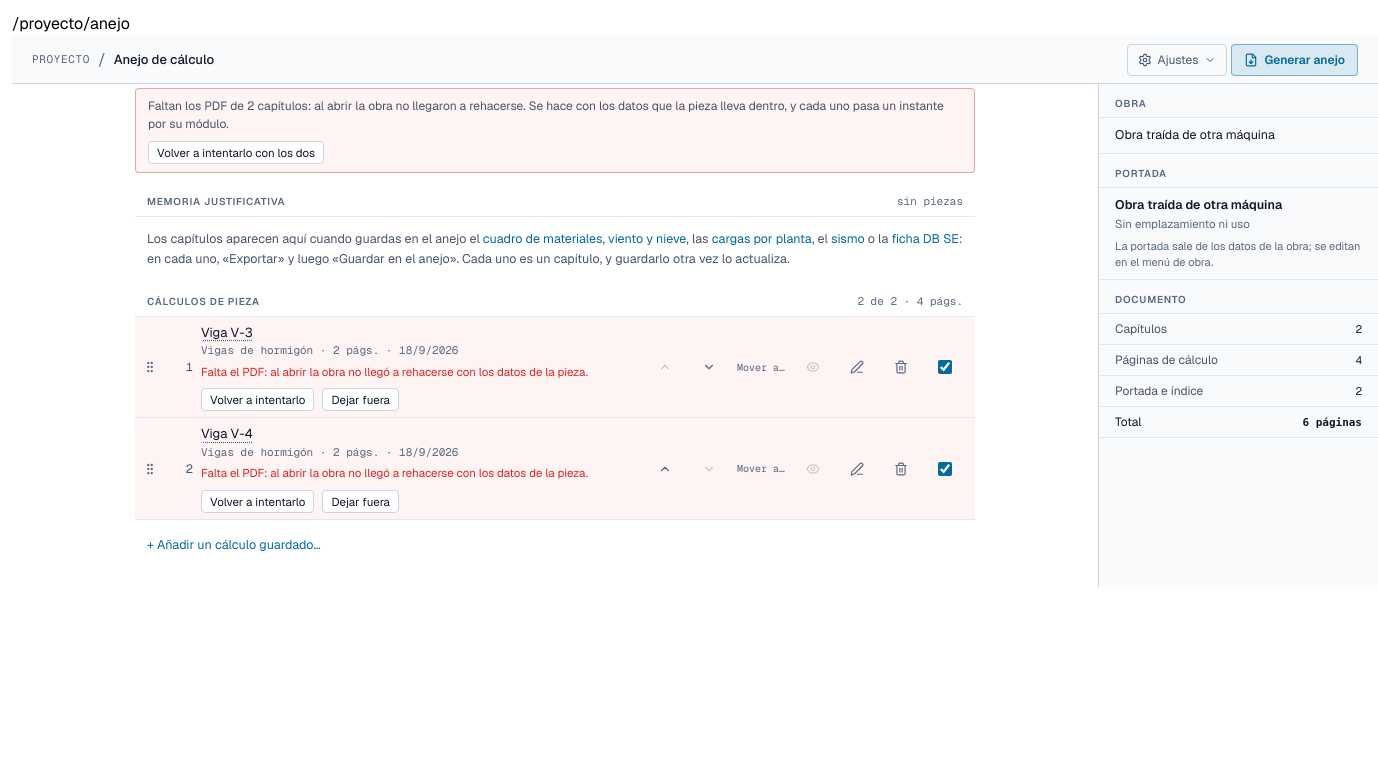
it: rehacer el PDF de una pieza › en tanda: las dos piezas pasan por su módulo y las dos quedan con PDF
Click the button "Volver a intentarlo con los dos". click: (236, 153)
box: [148,141,324,164]
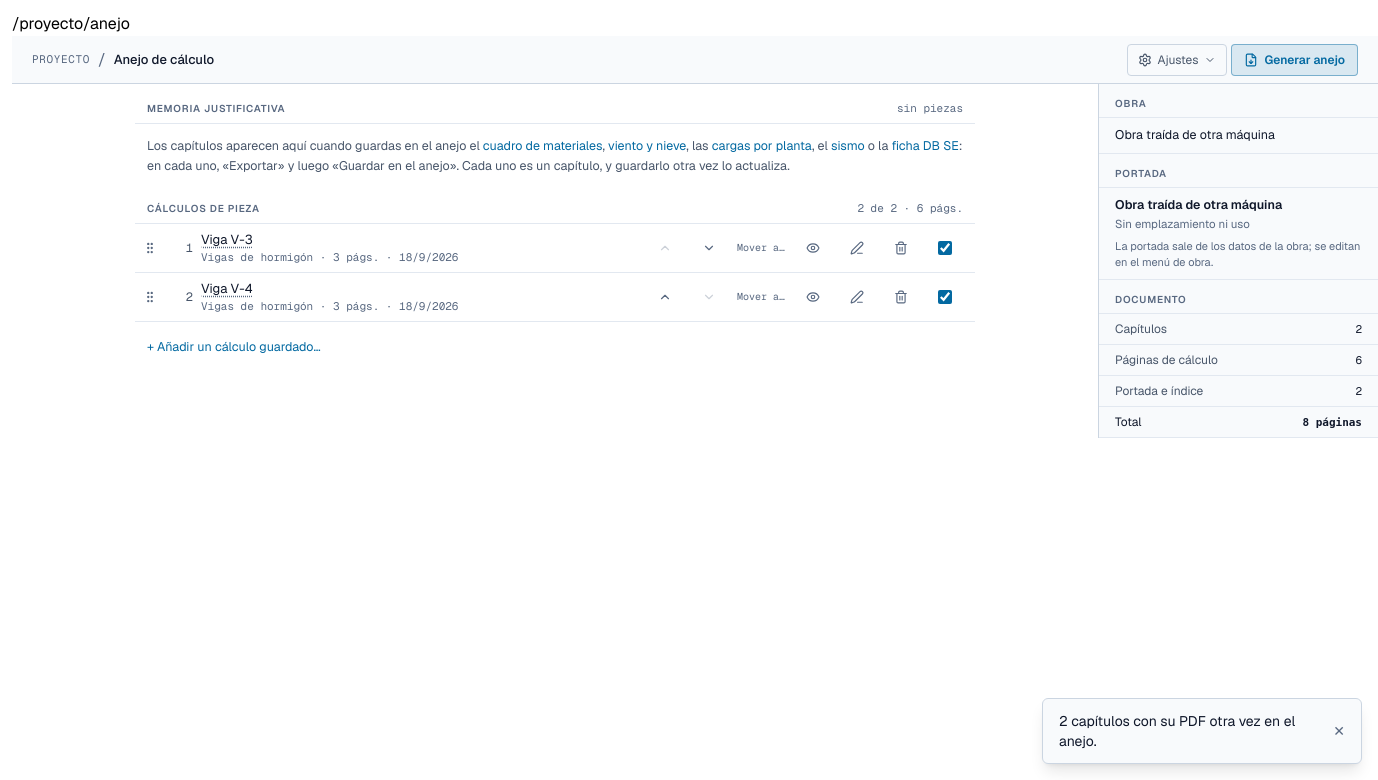
expect the text with test id "ruta" reads "/proyecto/anejo": met, box [12,13,130,34]
expect the text "2 capítulos con su PDF otra vez en el anejo." is shown: met, box [1059,711,1321,751]
